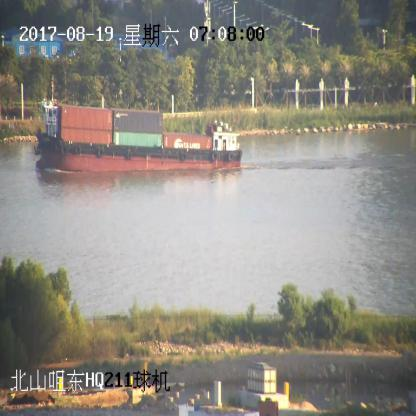Container Ship: (35, 94, 242, 177)
